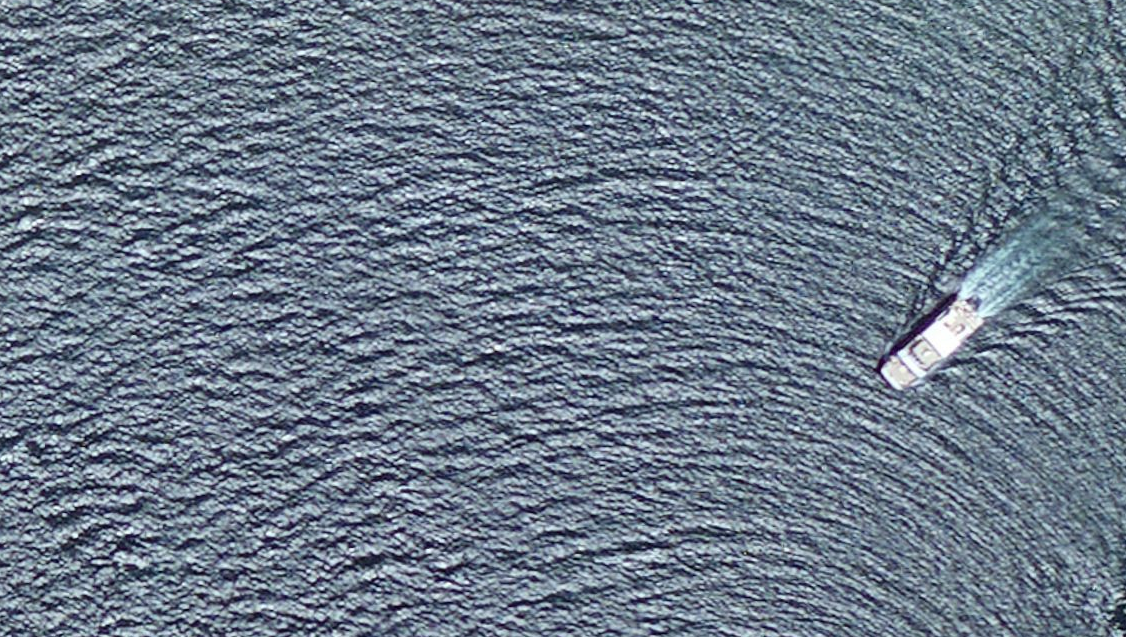ship: (861, 285, 997, 396)
